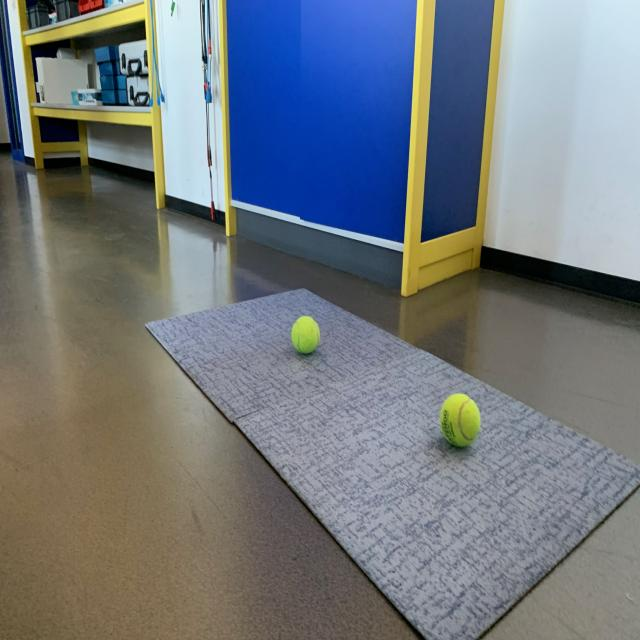Tennis-Ball: (438, 391, 482, 451), (290, 310, 322, 358)
